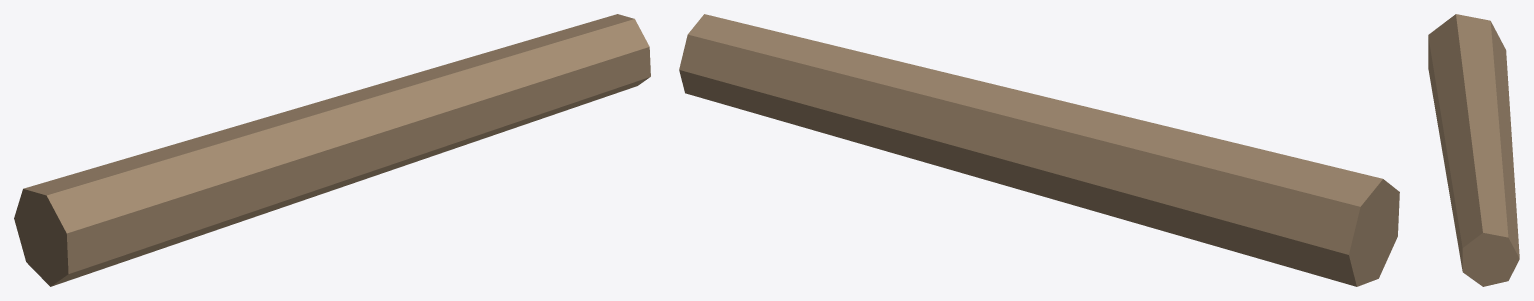
The picture shows the model from 3 angles, left to right: view 1: azimuth 30°, elevation 25°; view 2: azimuth 150°, elevation 25°; view 3: azimuth 270°, elevation 25°; orthographic projection. The views are drawn at different scales.
Bounding box in the file's own units: 4.03 × 0.6865 × 0.6701.
